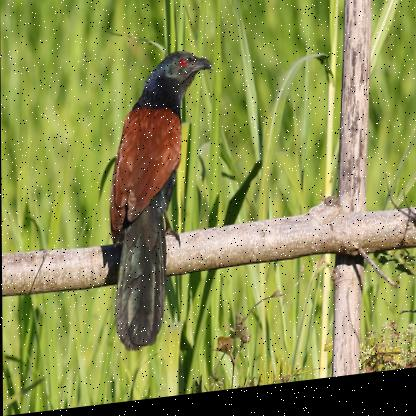Burung: (109, 51, 215, 356)
